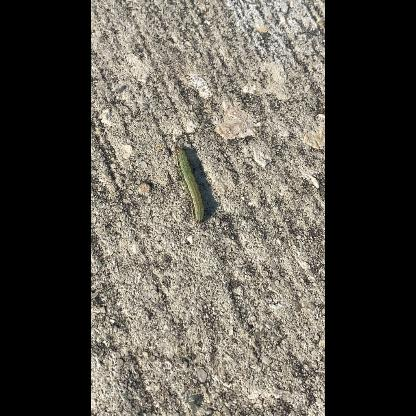Fall Armyworm Larvae: (172, 143, 208, 227)
